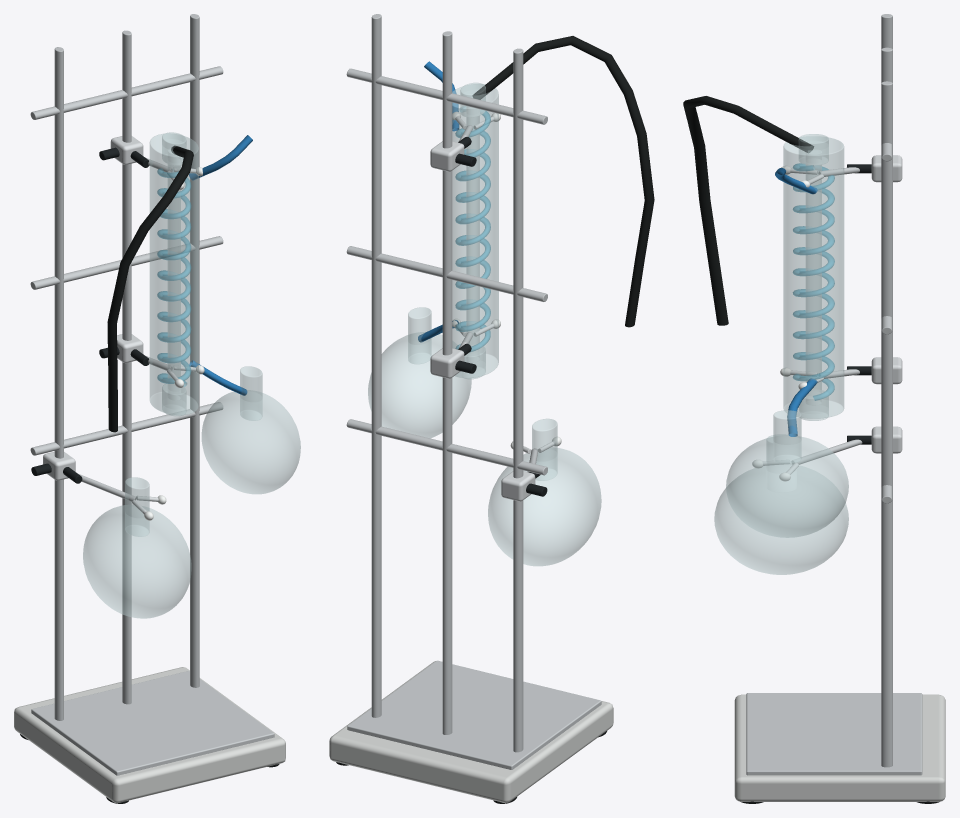
Rendered from retort-stand-assembly.glb.
3 renders of one model, left to right at view 1: azimuth 30°, elevation 25°; view 2: azimuth 150°, elevation 25°; view 3: azimuth 270°, elevation 25°, orthographic. The views are drawn at different scales.
Visible parts, largest first — view 1: Runtime batch - Brushed stainless steel, Runtime batch - Borosilicate process glass, Runtime batch - Warm gray powder coat highlight, Runtime batch - Black leveling-foot rubber, Runtime batch - Safety spray water, Runtime batch - Satin anodized aluminum, Runtime batch - Black engineering polymer, Runtime batch - Cold service blue; view 2: Runtime batch - Brushed stainless steel, Runtime batch - Borosilicate process glass, Runtime batch - Warm gray powder coat highlight, Runtime batch - Black leveling-foot rubber, Runtime batch - Safety spray water, Runtime batch - Satin anodized aluminum, Runtime batch - Black engineering polymer, Runtime batch - Cold service blue; view 3: Runtime batch - Borosilicate process glass, Runtime batch - Brushed stainless steel, Runtime batch - Warm gray powder coat highlight, Runtime batch - Black leveling-foot rubber, Runtime batch - Safety spray water, Runtime batch - Satin anodized aluminum, Runtime batch - Cold service blue, Runtime batch - Black engineering polymer.
Part boxes in pixels (x1,y1,x2,y2): Runtime batch - Brushed stainless steel: [30, 14, 274, 775]; Runtime batch - Borosilicate process glass: [83, 132, 300, 618]; Runtime batch - Warm gray powder coat highlight: [14, 667, 285, 803]; Runtime batch - Black leveling-foot rubber: [20, 145, 279, 803]; Runtime batch - Safety spray water: [157, 168, 191, 386]; Runtime batch - Satin anodized aluminum: [43, 136, 195, 514]; Runtime batch - Black engineering polymer: [31, 147, 148, 483]; Runtime batch - Cold service blue: [189, 135, 252, 395]; Runtime batch - Brushed stainless steel: [346, 14, 601, 769]; Runtime batch - Borosilicate process glass: [368, 82, 601, 566]; Runtime batch - Warm gray powder coat highlight: [329, 661, 613, 803]; Runtime batch - Black leveling-foot rubber: [336, 36, 654, 803]; Runtime batch - Safety spray water: [455, 108, 490, 352]; Runtime batch - Satin anodized aluminum: [430, 116, 555, 501]; Runtime batch - Black engineering polymer: [455, 137, 547, 496]; Runtime batch - Cold service blue: [418, 61, 459, 342]; Runtime batch - Borosilicate process glass: [714, 134, 848, 574]; Runtime batch - Brushed stainless steel: [746, 14, 922, 775]; Runtime batch - Warm gray powder coat highlight: [734, 694, 945, 801]; Runtime batch - Black leveling-foot rubber: [683, 96, 938, 803]; Runtime batch - Safety spray water: [793, 163, 834, 400]; Runtime batch - Satin anodized aluminum: [762, 155, 902, 474]; Runtime batch - Cold service blue: [775, 168, 817, 436]; Runtime batch - Black engineering polymer: [847, 164, 871, 444].
Size of the model in its own units: 0.6 by 1.8 by 0.6.
